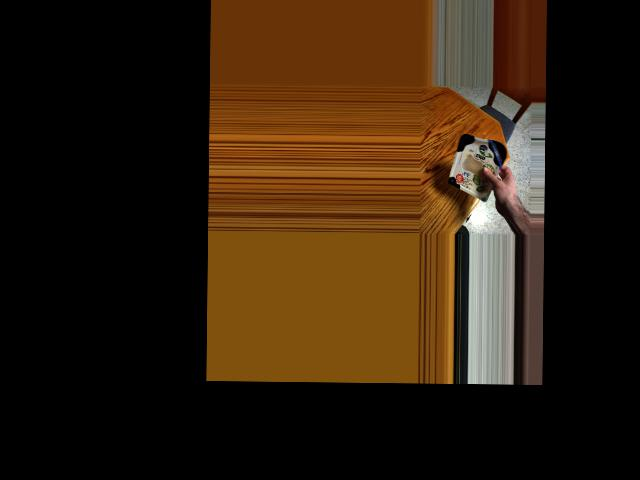cheese: (449, 132, 508, 191)
